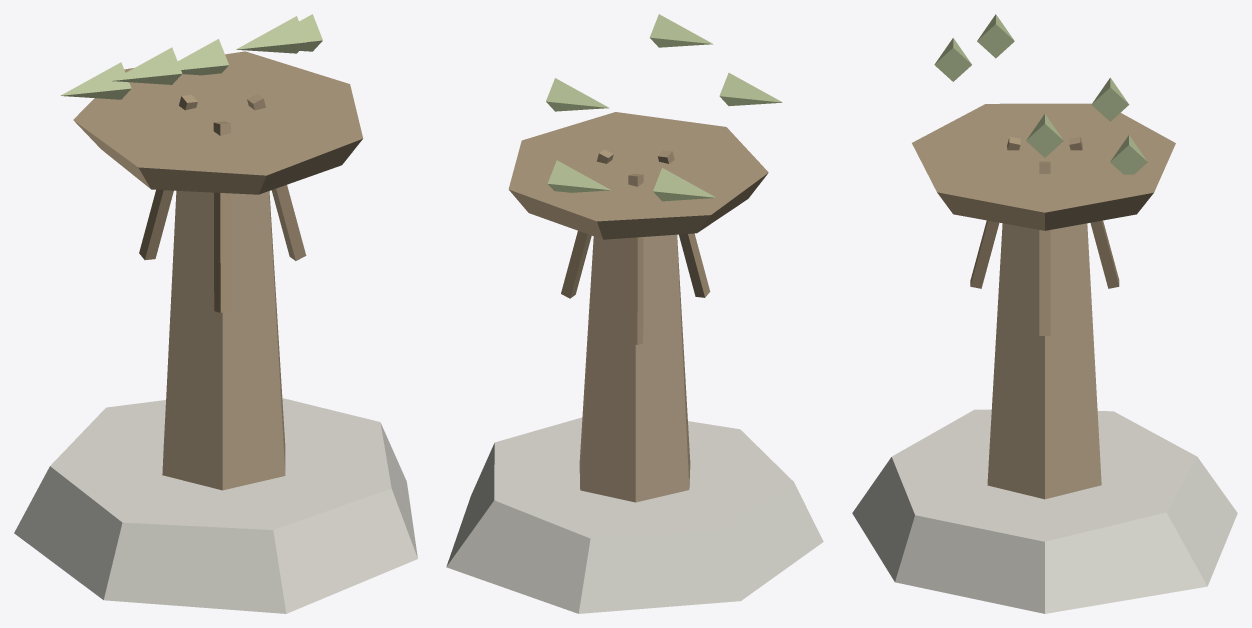
The model's file is tower-willow.glb.
3 renders of one model, left to right at view 1: azimuth 30°, elevation 25°; view 2: azimuth 150°, elevation 25°; view 3: azimuth 270°, elevation 25°, orthographic. The views are drawn at different scales.
Parts seen in each view (by area): view 1: tower-willow; view 2: tower-willow; view 3: tower-willow.
Boxes of the visible parts, x1,y1,x2,y2 form: tower-willow: (14,14,417,613); tower-willow: (446,14,823,613); tower-willow: (852,14,1237,613).
Bounding box in the file's own units: 1.94 × 2.87 × 2.03.
